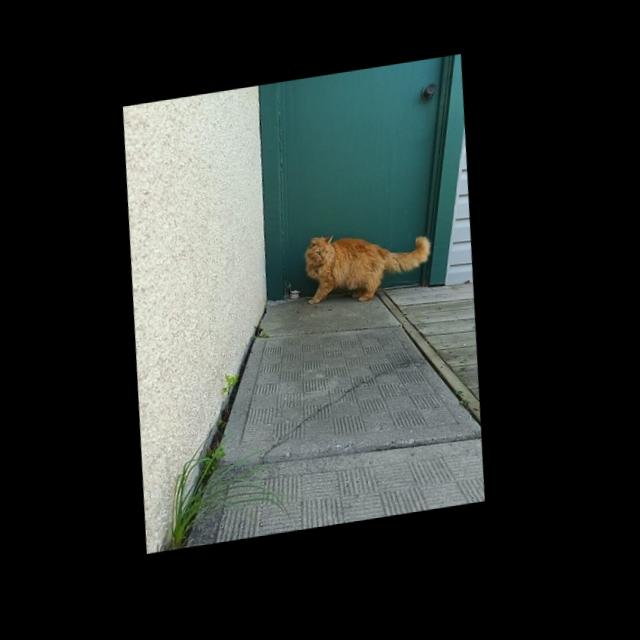animals: (302, 221, 438, 314)
